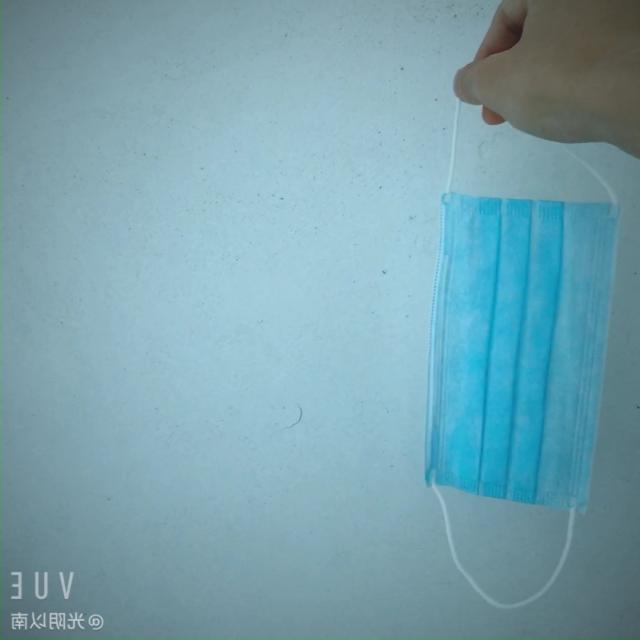face mask: (424, 187, 624, 520)
